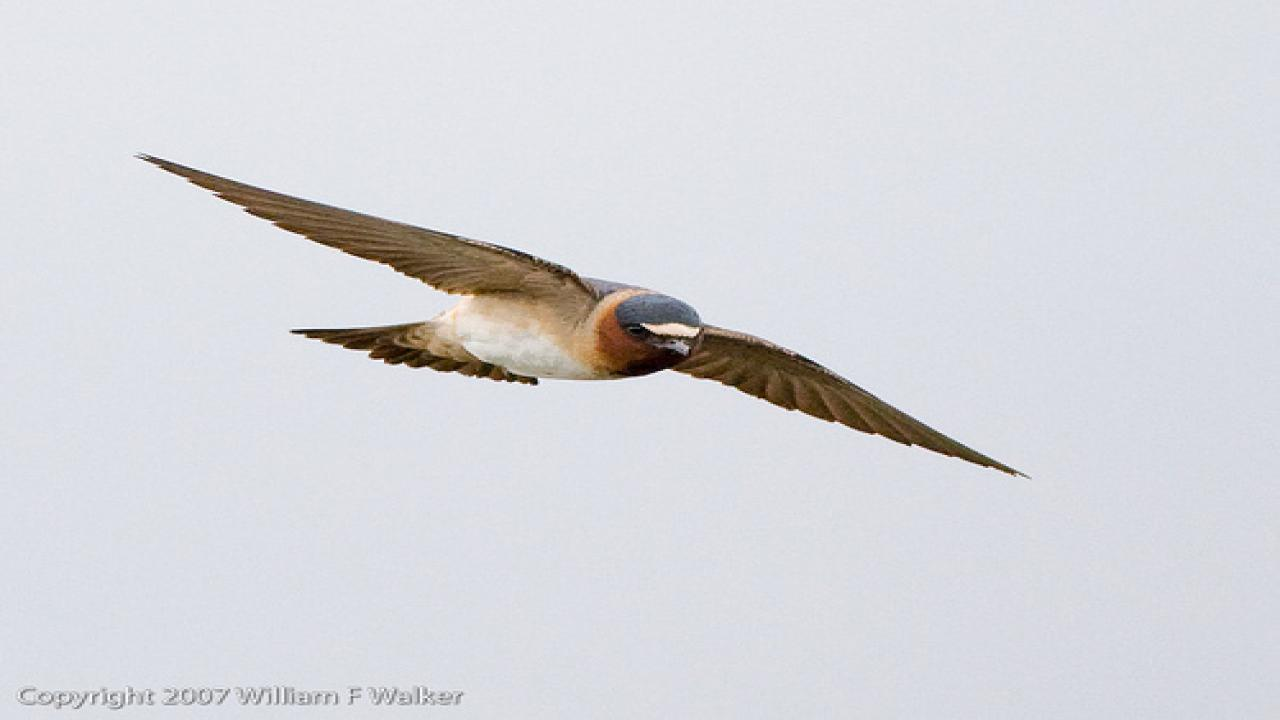Bird: (126, 141, 1044, 488)
